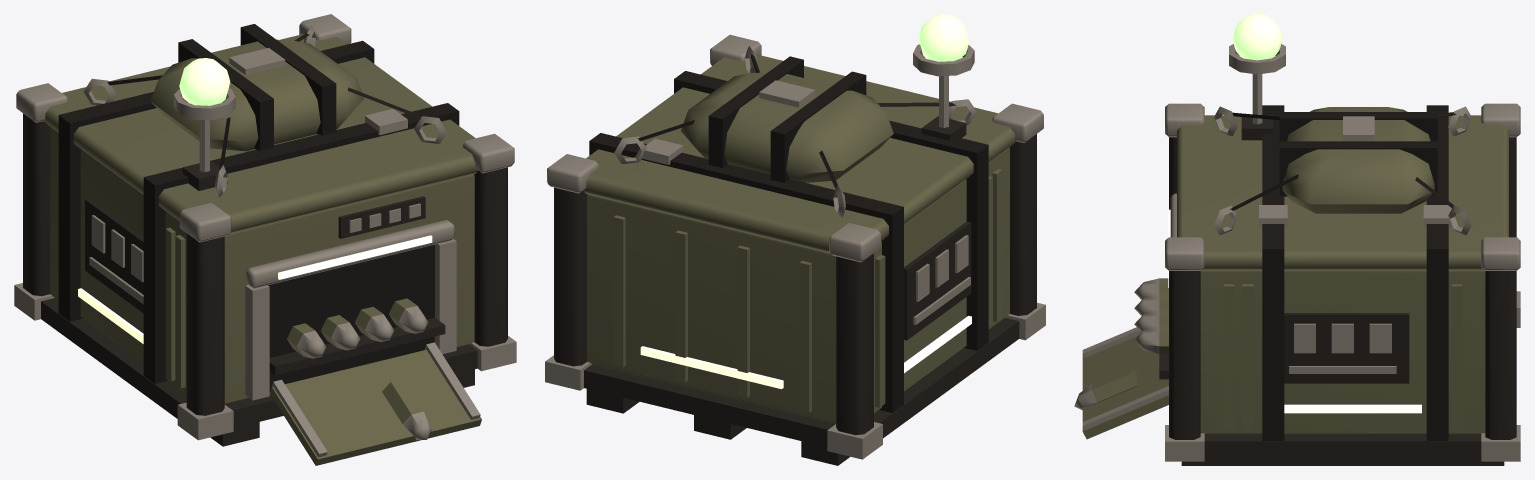
The model's file is fac_crate.glb.
3 views of the same model, side by side, from view 1: azimuth 30°, elevation 25°; view 2: azimuth 150°, elevation 25°; view 3: azimuth 270°, elevation 25° (orthographic). The views are drawn at different scales.
Parts seen in each view (by area): view 1: body, lamp; view 2: body, lamp; view 3: body, lamp.
Boxes of the visible parts, bbox=[...] form: body: bbox=[14, 14, 516, 465]; lamp: bbox=[174, 58, 235, 120]; body: bbox=[545, 34, 1045, 465]; lamp: bbox=[913, 14, 974, 76]; body: bbox=[1074, 74, 1520, 465]; lamp: bbox=[1229, 14, 1285, 74].
Bounding box in the file's own units: 1.12 × 1.19 × 1.41.
